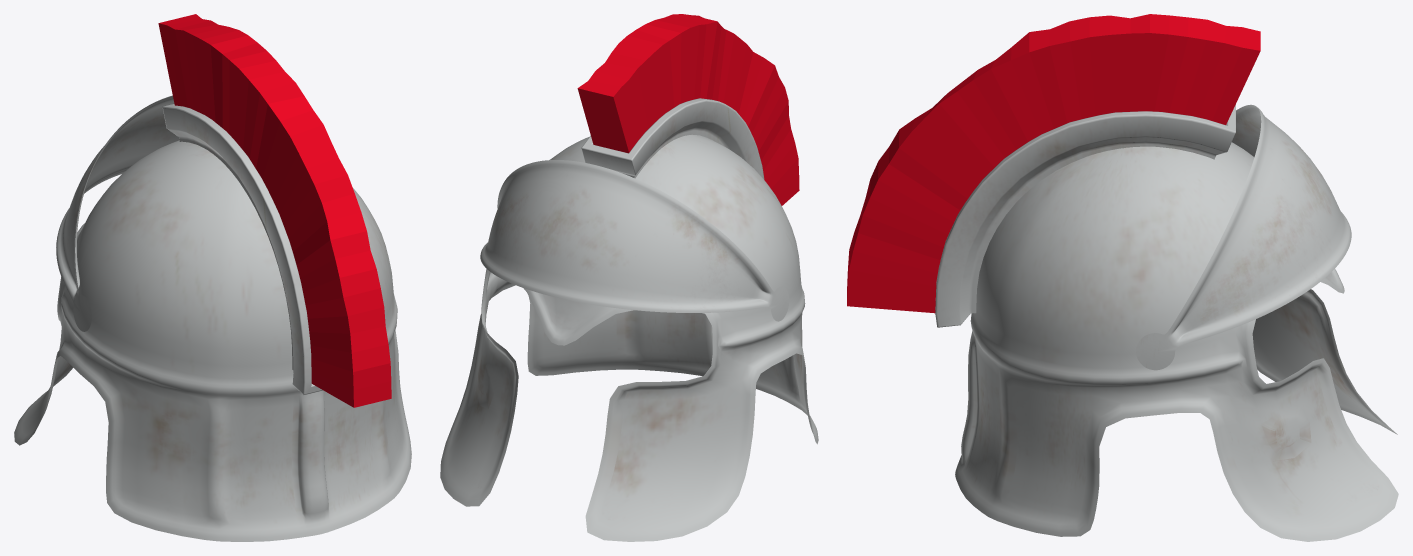
File: Helmet_Low_Poly (for Unity).fbx
3 views of the same model, side by side, from view 1: azimuth 30°, elevation 25°; view 2: azimuth 150°, elevation 25°; view 3: azimuth 270°, elevation 25° (orthographic). The views are drawn at different scales.
Visible parts, largest first — view 1: Helmet.001, Plane_Hair_for_Crest_base_texture.001, Crest.001, Visiere.001; view 2: Helmet.001, Visiere.001, Plane_Hair_for_Crest_base_texture.001, Crest.001; view 3: Helmet.001, Plane_Hair_for_Crest_base_texture.001, Visiere.001, Crest.001.
Boxes of the visible parts, left/top/right/bottom form: Helmet.001: left=14, top=140, right=411, bottom=541; Plane_Hair_for_Crest_base_texture.001: left=158, top=14, right=391, bottom=407; Crest.001: left=162, top=104, right=322, bottom=394; Visiere.001: left=56, top=95, right=179, bottom=331; Helmet.001: left=440, top=134, right=818, bottom=541; Visiere.001: left=480, top=160, right=789, bottom=321; Plane_Hair_for_Crest_base_texture.001: left=577, top=14, right=799, bottom=205; Crest.001: left=581, top=98, right=764, bottom=179; Helmet.001: left=955, top=142, right=1398, bottom=541; Plane_Hair_for_Crest_base_texture.001: left=847, top=14, right=1260, bottom=313; Visiere.001: left=1136, top=104, right=1351, bottom=370; Crest.001: left=935, top=105, right=1235, bottom=327.
Size of the model in its own units: 202 by 273 by 303.
